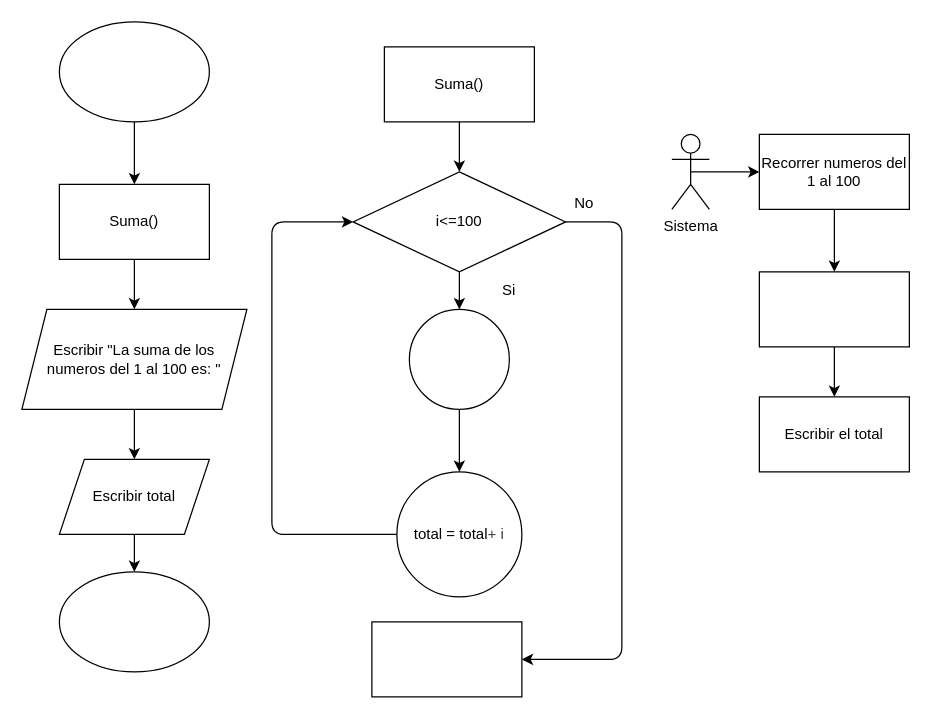
Some shapes in this 931 by 719 pixel diagram are drawn without their labels. The shapes that lost their labels are listed below. From the top down, each one's centre as x and y in pixels, then its label:
[133,71]: Inicio
[833,309]: Sumar numero total con el numero actual
[458,358]: i = i +1
[133,621]: fin
[446,659]: total
